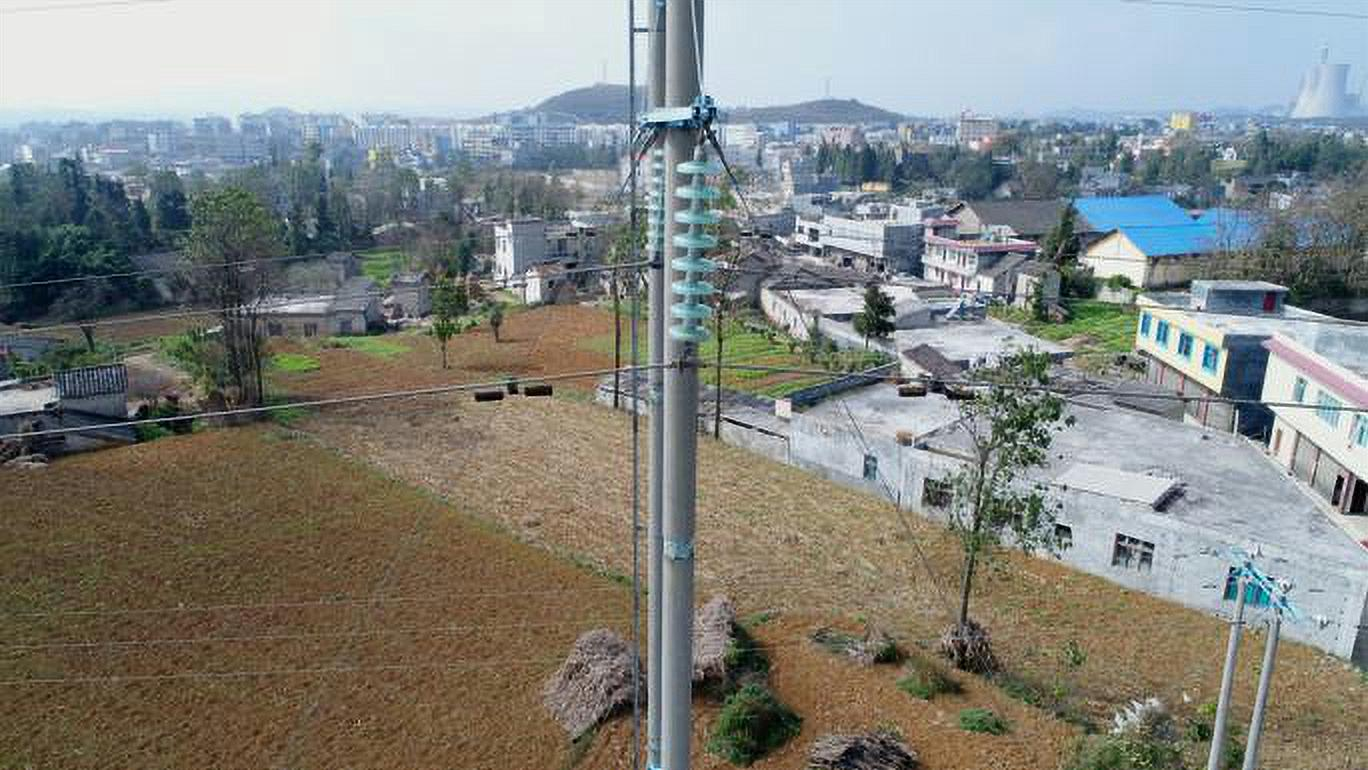insulator: (663, 156, 725, 347)
